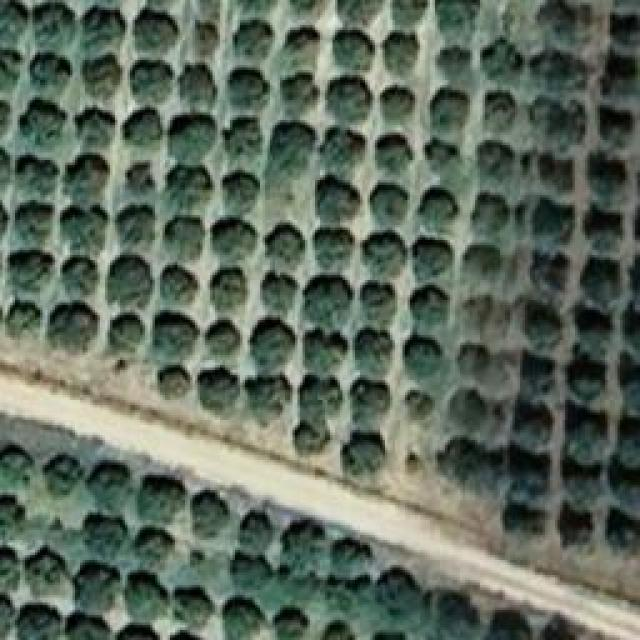Tree: (48, 303, 98, 362), (435, 438, 492, 487), (270, 117, 316, 175), (528, 100, 580, 151), (170, 110, 223, 160), (525, 198, 575, 251), (30, 2, 85, 49), (193, 368, 243, 417), (165, 163, 216, 211), (303, 273, 353, 321), (528, 45, 580, 91), (350, 380, 395, 433), (88, 465, 137, 512), (128, 58, 175, 107), (332, 23, 377, 74), (70, 570, 121, 615), (205, 255, 249, 307), (247, 370, 294, 418), (15, 102, 64, 148), (560, 472, 609, 518), (484, 30, 526, 83), (430, 585, 471, 639), (107, 250, 153, 298), (505, 468, 551, 516), (125, 573, 170, 622), (480, 605, 543, 640), (445, 388, 490, 436), (328, 75, 372, 124), (310, 178, 359, 222), (378, 563, 421, 613), (353, 325, 395, 376), (515, 300, 557, 351), (60, 210, 106, 255), (85, 515, 129, 562), (8, 248, 52, 295), (583, 150, 627, 197), (75, 110, 119, 156), (250, 320, 296, 364), (43, 458, 85, 506), (530, 250, 572, 298), (15, 153, 60, 197), (583, 207, 627, 252), (342, 435, 388, 478), (105, 310, 147, 357), (470, 190, 512, 237), (258, 273, 297, 323), (228, 550, 272, 594), (135, 12, 178, 57), (320, 127, 362, 173), (152, 318, 198, 360), (355, 285, 402, 326), (265, 223, 308, 267), (528, 153, 572, 196), (83, 2, 124, 48), (27, 53, 74, 93), (300, 330, 347, 370), (565, 425, 612, 465), (410, 233, 452, 277), (365, 238, 407, 282), (583, 258, 627, 300), (232, 515, 277, 556), (180, 60, 221, 105), (25, 552, 65, 598), (12, 200, 57, 240), (233, 62, 272, 108), (478, 87, 516, 134), (313, 228, 355, 270), (153, 265, 195, 307), (373, 185, 416, 226), (135, 480, 178, 521), (190, 497, 228, 543), (208, 215, 254, 253), (600, 55, 638, 101), (228, 120, 264, 168), (428, 84, 469, 126), (283, 518, 324, 560), (230, 15, 273, 55), (120, 108, 160, 151), (165, 215, 205, 258), (478, 138, 518, 181), (420, 190, 457, 235), (83, 57, 120, 102), (465, 242, 502, 287), (120, 202, 156, 248), (298, 418, 336, 461), (283, 20, 322, 61), (135, 530, 174, 571), (68, 163, 109, 202), (223, 168, 262, 209), (535, 0, 579, 36), (333, 543, 371, 584), (300, 378, 341, 416), (413, 290, 455, 327), (385, 28, 424, 67), (58, 255, 96, 295), (420, 135, 457, 175), (8, 303, 43, 345), (600, 105, 635, 147), (503, 503, 538, 545), (283, 73, 317, 116), (438, 40, 473, 81), (205, 320, 239, 362), (408, 333, 443, 373), (225, 600, 261, 638), (380, 88, 414, 128), (372, 135, 405, 176), (18, 610, 63, 640), (513, 417, 555, 449), (605, 8, 640, 46), (0, 450, 34, 489), (188, 22, 228, 55), (518, 363, 553, 400), (583, 310, 613, 352), (565, 368, 602, 402), (403, 388, 433, 429), (275, 605, 310, 640), (428, 0, 476, 24), (0, 0, 26, 44), (178, 588, 208, 626), (158, 365, 192, 398), (456, 343, 488, 378), (560, 517, 595, 549), (0, 547, 23, 592), (62, 617, 107, 640), (123, 162, 151, 196), (334, 0, 381, 20), (390, 0, 427, 25), (615, 480, 640, 515), (0, 494, 19, 540), (320, 620, 359, 640), (620, 430, 640, 465), (0, 595, 15, 640), (622, 380, 640, 410)
